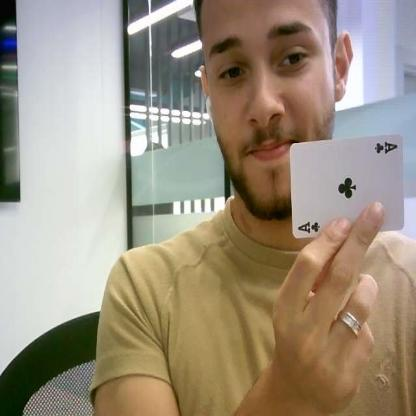AC: (372, 141, 398, 156), (297, 221, 321, 236)
